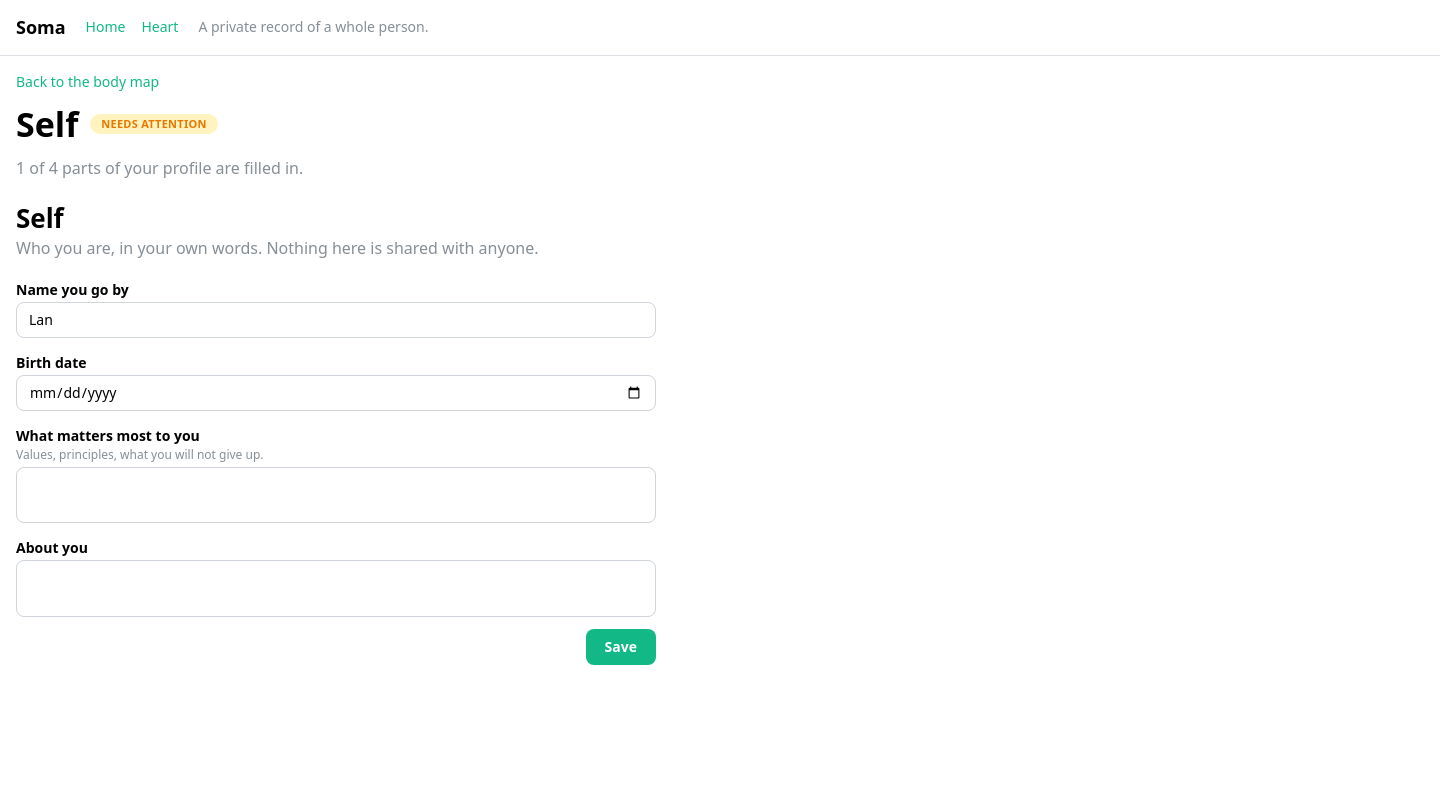
Test: Self page › saves with the version it loaded, and clears emptied fields with null
The image size is (1440, 810).
Step 1. Replace the text in the field labelled "Name you go by" with "Lana" → [336, 320], box [16,302,656,338]
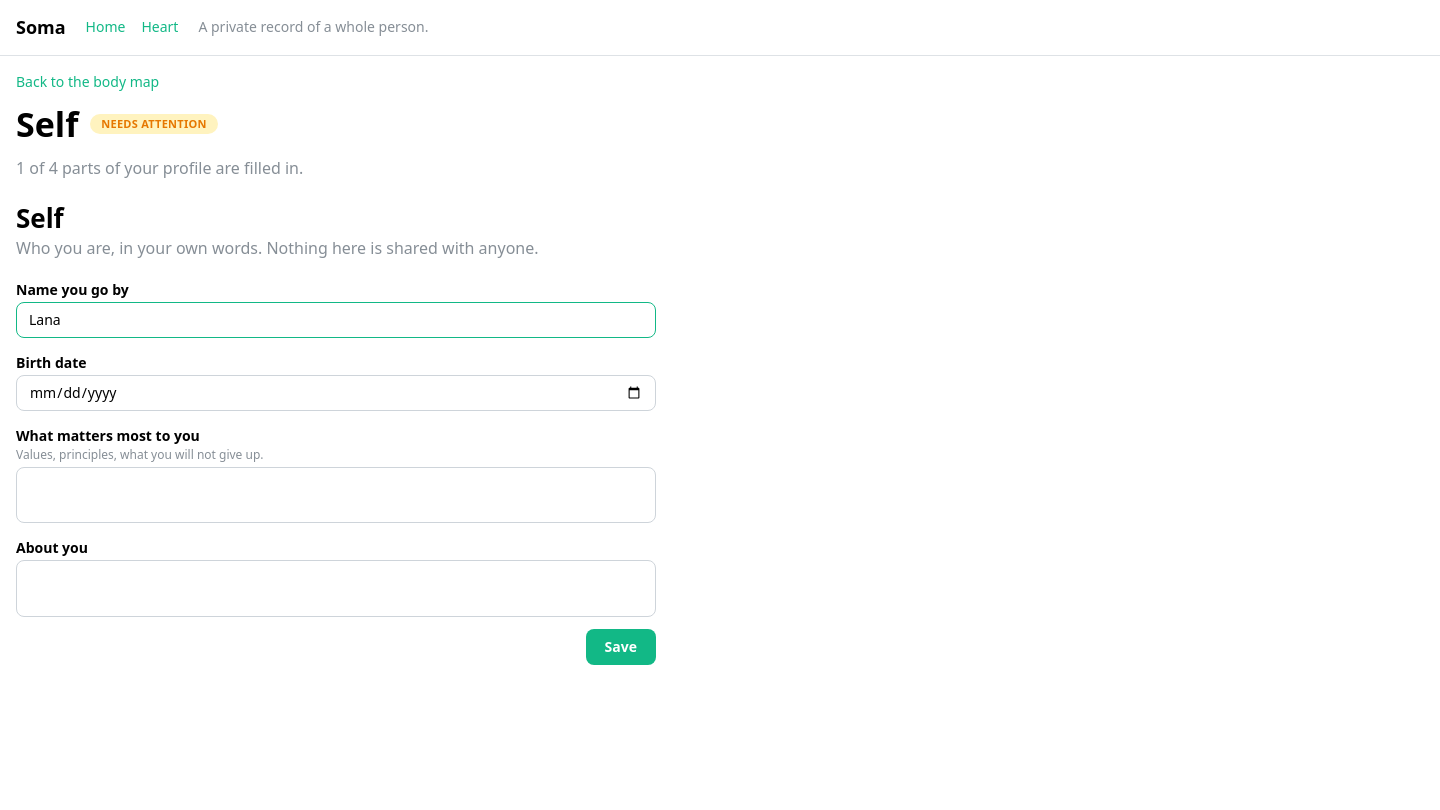
Step 2. Click the button "Save" → [621, 646], box [586,628,656,664]
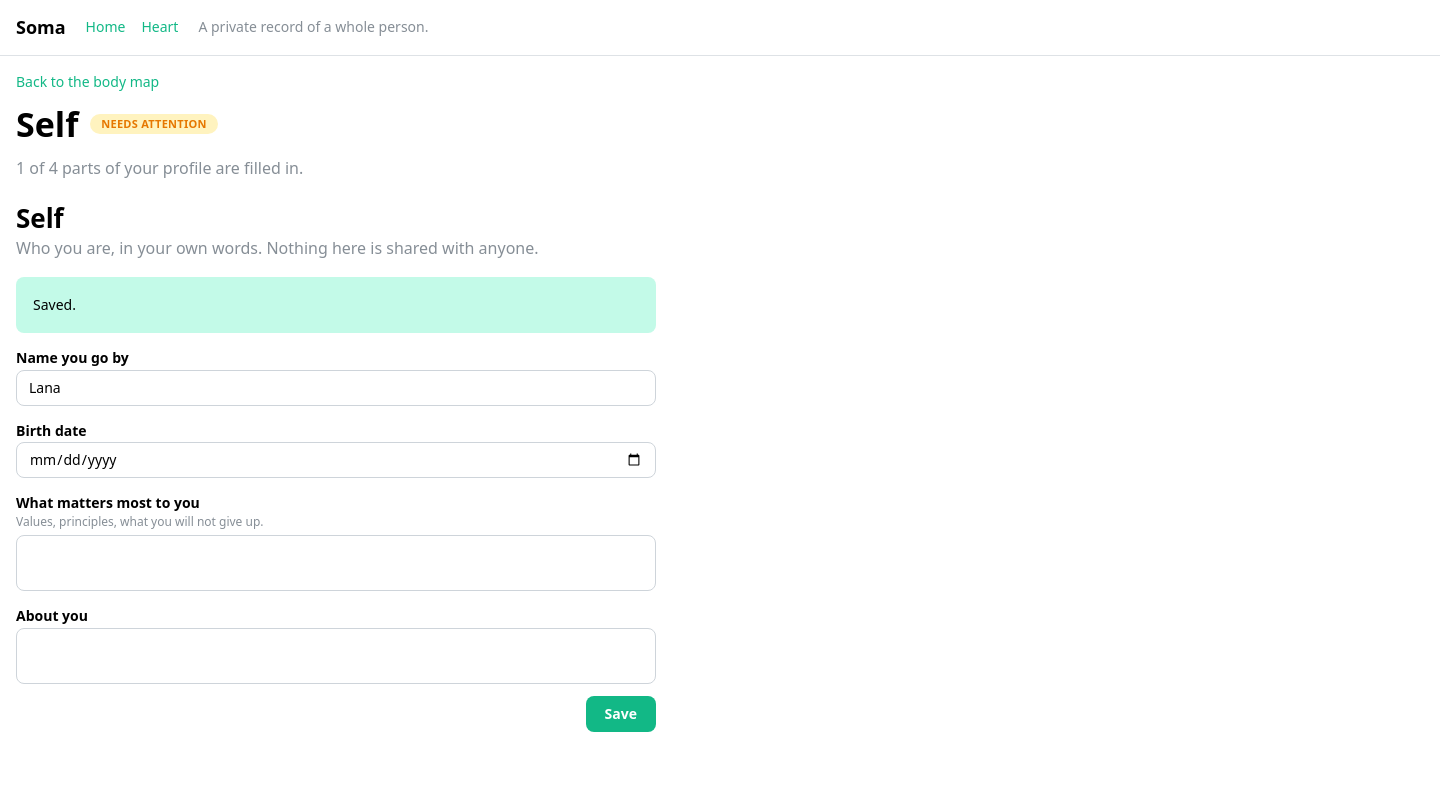
Result: the text "Saved." is shown at [33,295,76,314]
